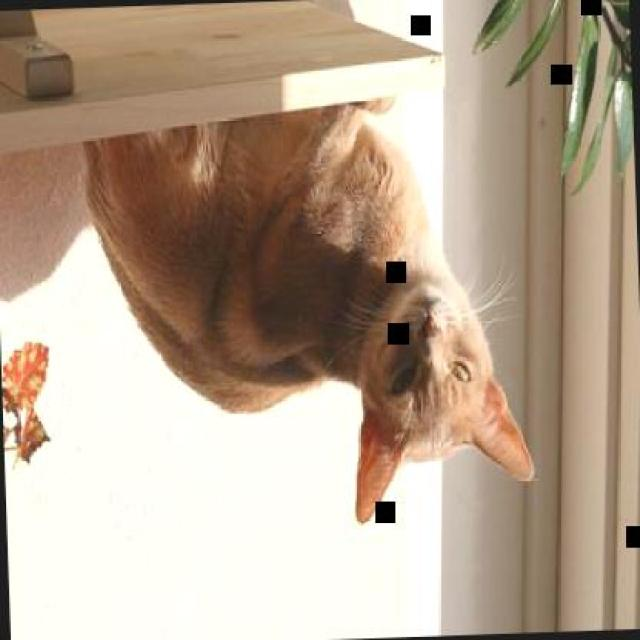cat: (80, 92, 537, 534)
